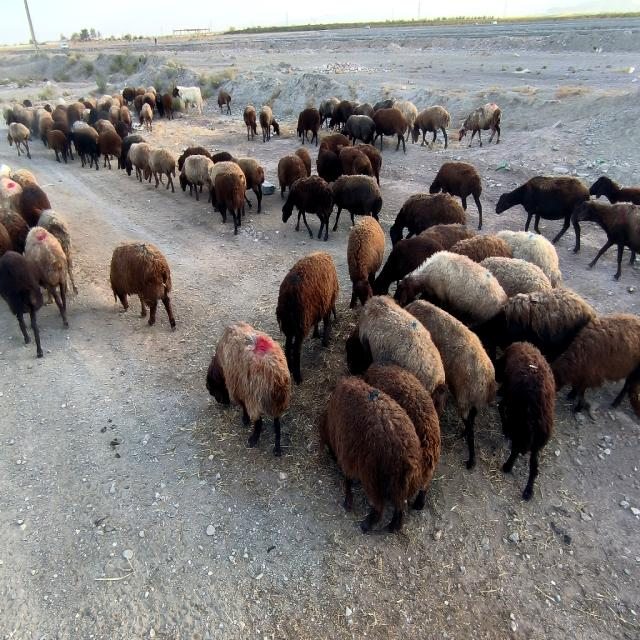sheep: (319, 377, 422, 532), (406, 300, 498, 468), (346, 297, 446, 412), (206, 322, 291, 457), (362, 363, 441, 508), (495, 342, 555, 499), (551, 313, 640, 418), (471, 288, 596, 362), (276, 253, 339, 384), (395, 252, 508, 325), (496, 175, 590, 243), (110, 242, 175, 329), (571, 200, 640, 279), (0, 252, 44, 358), (25, 227, 69, 326), (372, 237, 444, 295), (390, 193, 466, 244), (496, 230, 562, 288), (429, 163, 481, 229), (38, 210, 78, 295), (348, 217, 385, 308), (282, 177, 334, 241), (480, 257, 551, 298), (332, 175, 382, 231), (214, 173, 245, 234), (459, 103, 501, 147), (232, 158, 265, 212), (450, 235, 512, 262), (179, 155, 214, 201), (412, 107, 451, 148), (372, 108, 408, 152), (419, 223, 475, 251), (19, 183, 51, 228), (589, 177, 640, 205), (144, 148, 176, 192), (0, 208, 30, 254), (278, 155, 308, 198), (69, 132, 99, 170), (126, 142, 154, 182), (316, 142, 342, 182), (0, 165, 22, 212), (342, 115, 376, 145), (338, 147, 372, 176), (392, 102, 419, 136), (296, 108, 320, 146), (98, 130, 122, 168), (211, 162, 246, 186), (8, 123, 31, 158), (259, 105, 280, 141), (178, 147, 211, 169), (330, 100, 354, 129), (47, 130, 68, 162), (319, 98, 340, 128), (11, 168, 38, 189), (322, 133, 351, 152), (72, 122, 99, 142), (295, 147, 311, 176), (244, 105, 256, 139), (94, 118, 115, 135), (161, 93, 174, 120), (140, 103, 152, 132), (218, 88, 231, 114), (354, 103, 375, 118), (211, 150, 234, 163), (120, 107, 132, 128)
